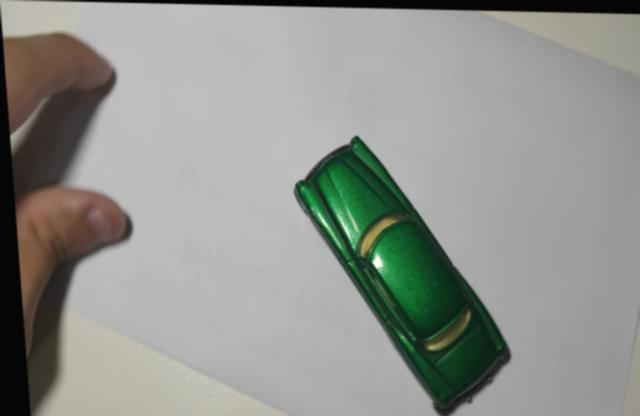06_MASERATI: (290, 135, 506, 416)
